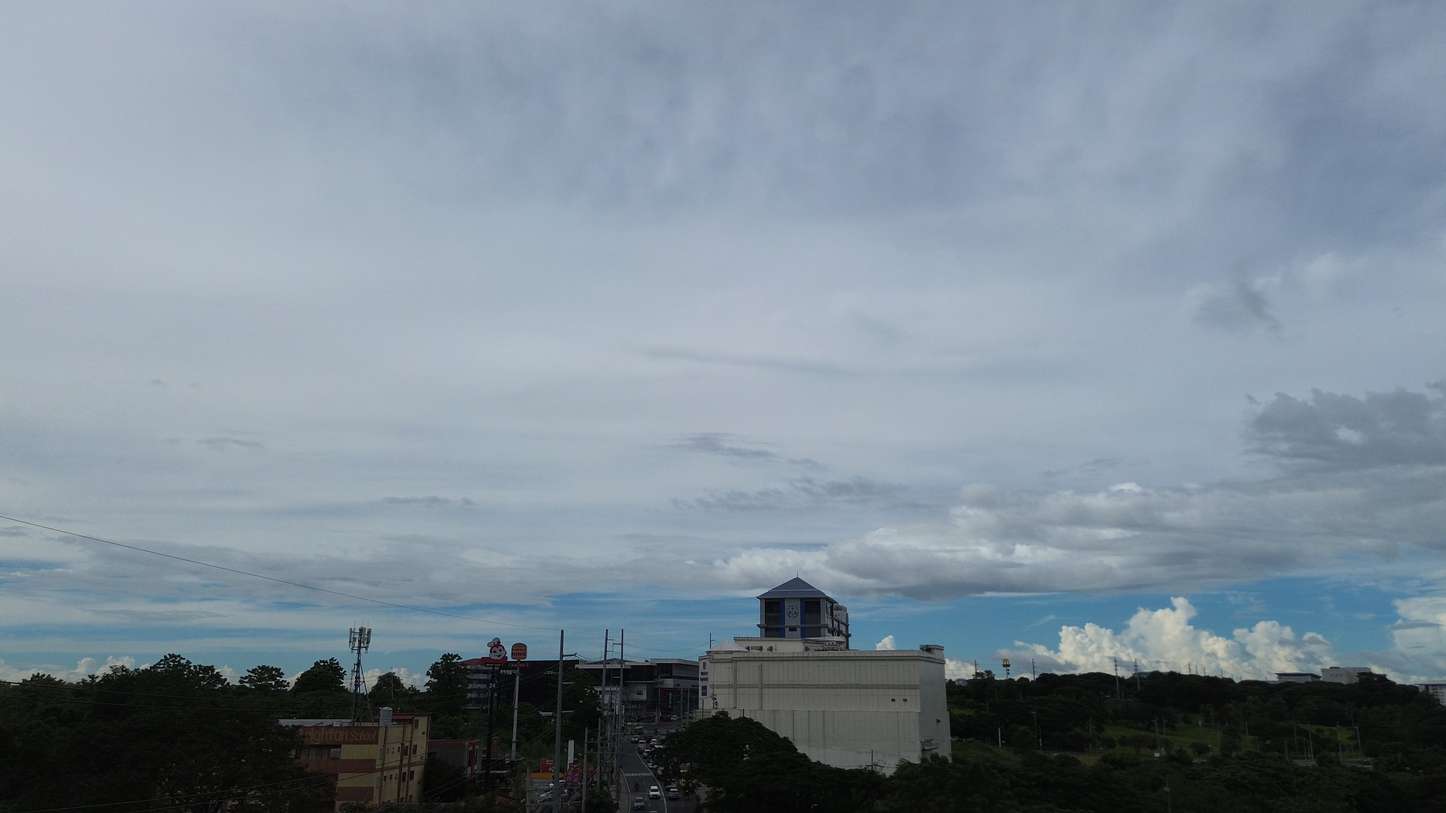car: (631, 797, 647, 810)
vehicle: (666, 786, 680, 799), (649, 785, 661, 797)
